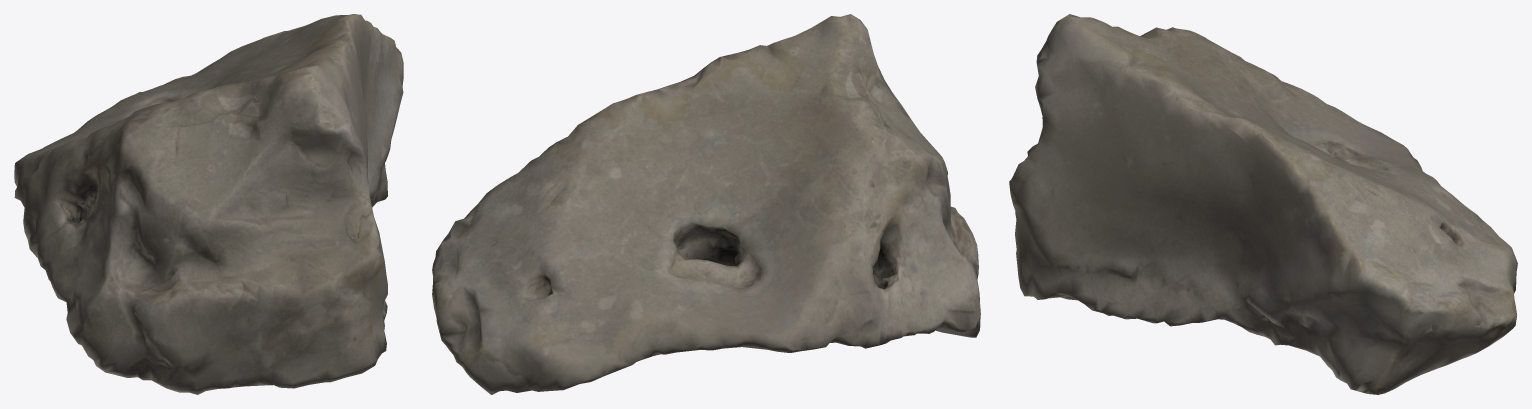
The model's file is moon_rock_06.glb.
The picture shows the model from 3 angles, left to right: view 1: azimuth 30°, elevation 25°; view 2: azimuth 150°, elevation 25°; view 3: azimuth 270°, elevation 25°; orthographic projection. The views are drawn at different scales.
Visible parts, largest first — view 1: lod0; view 2: lod0; view 3: lod0.
Boxes of the visible parts, box(x1,y1,x2,y2) form: lod0: box(14, 14, 403, 394); lod0: box(432, 14, 980, 394); lod0: box(1009, 14, 1517, 394).
Size of what is drawn, in the model's own units: 2.26 by 1.45 by 2.42.
1 material, 1 textured.
